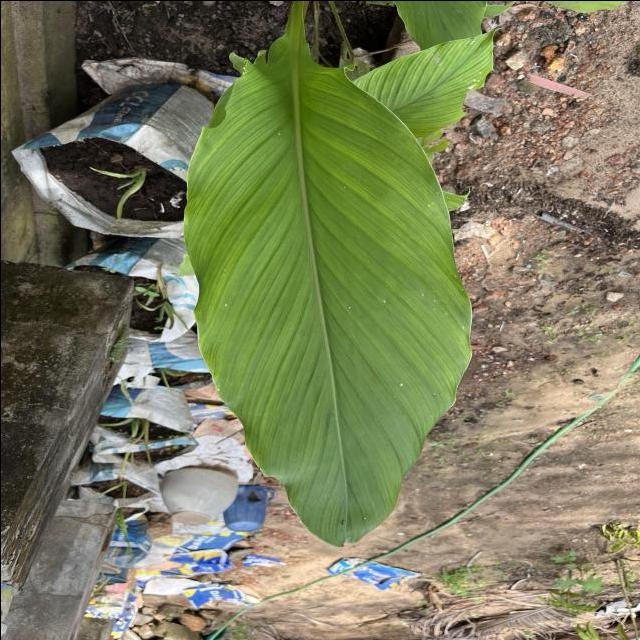Curcuma longa: (178, 29, 476, 548)
